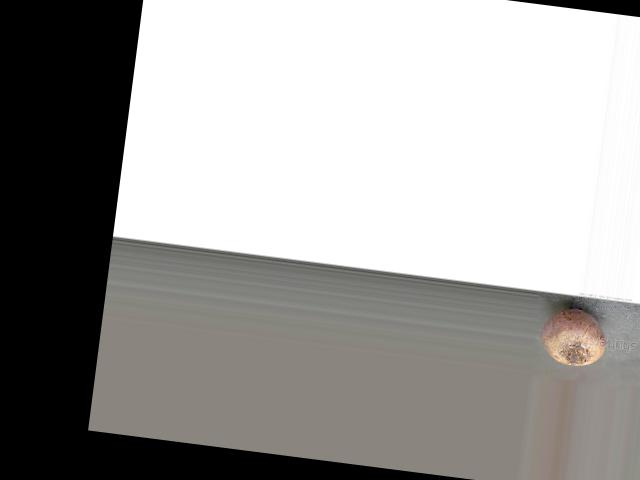beet: (537, 305, 608, 368)
